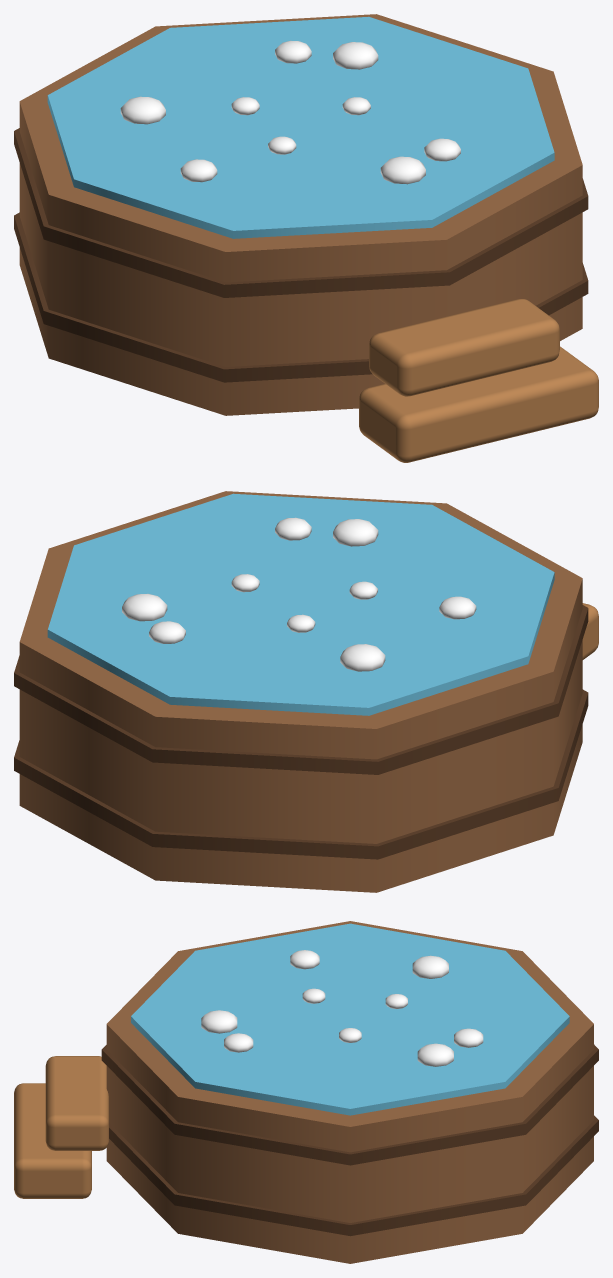
File: jacuzzi-cedar.glb
The picture shows the model from 3 angles, top to bottom: view 1: azimuth 30°, elevation 25°; view 2: azimuth 150°, elevation 25°; view 3: azimuth 270°, elevation 25°; orthographic projection. The views are drawn at different scales.
Bounding box in the file's own units: 2.04 × 0.714 × 2.4.
